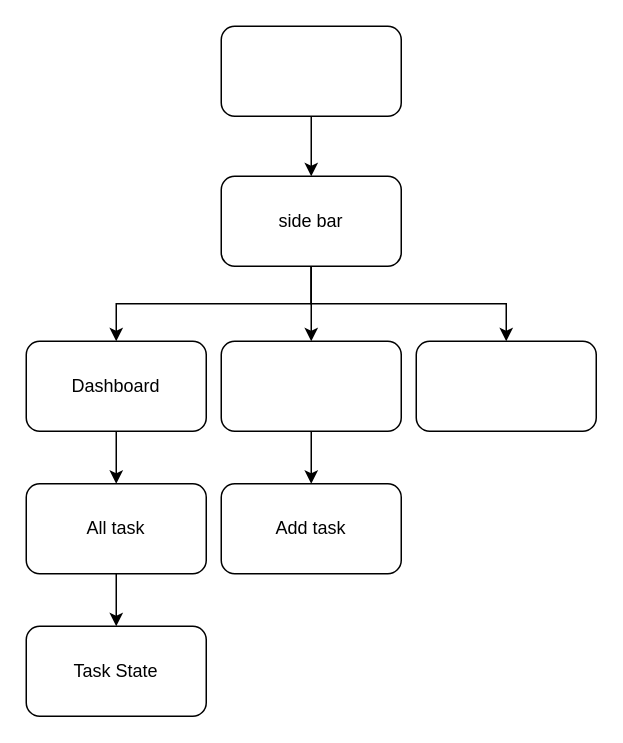
Image size: 623x743. Some labels were removed from this diagram. Here are the shapes that lost their labels. From the top down, the centre of each, then its label:
At (310,70): "App".
At (310,385): "Schduler".
At (505,385): "TimeLine".
